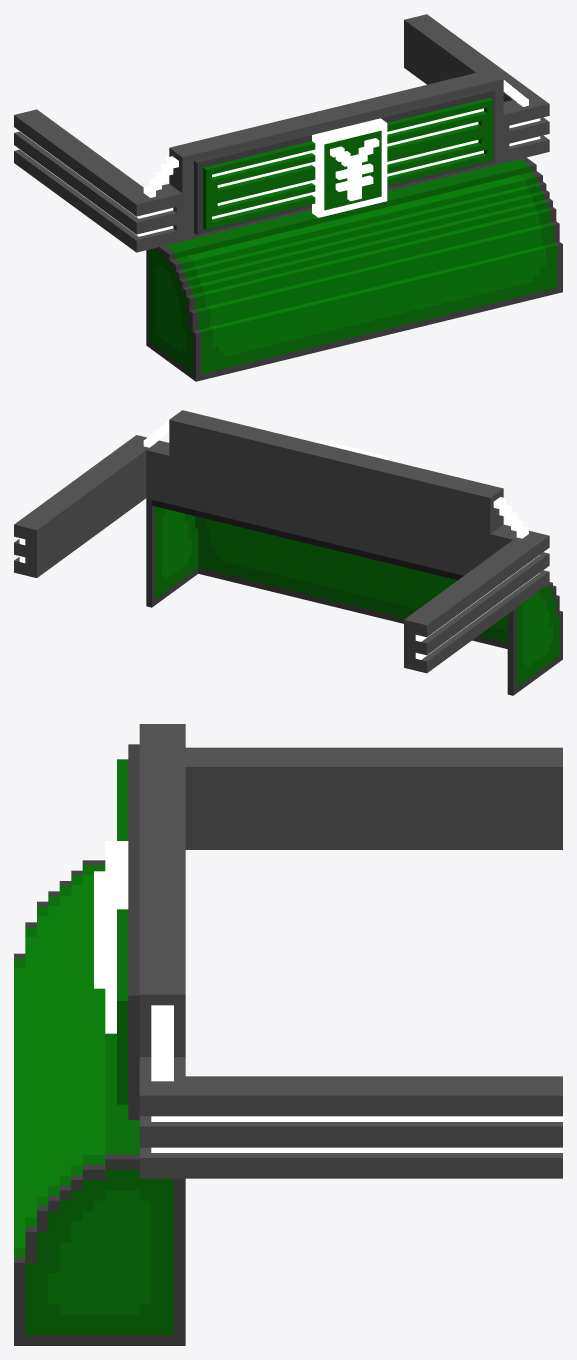
The model's file is bank.glb.
The picture shows the model from 3 angles, top to bottom: view 1: azimuth 30°, elevation 25°; view 2: azimuth 150°, elevation 25°; view 3: azimuth 270°, elevation 25°; orthographic projection. The views are drawn at different scales.
Visible parts, largest first — view 1: ObjObject; view 2: ObjObject; view 3: ObjObject.
Part boxes in pixels (x1,y1,x2,y2): ObjObject: (14,14,562,381); ObjObject: (14,410,562,695); ObjObject: (14,724,562,1345).
Size of the model in its own units: 7.2 by 3.2 by 4.8.
Materials: 2 (1 with a texture image).
